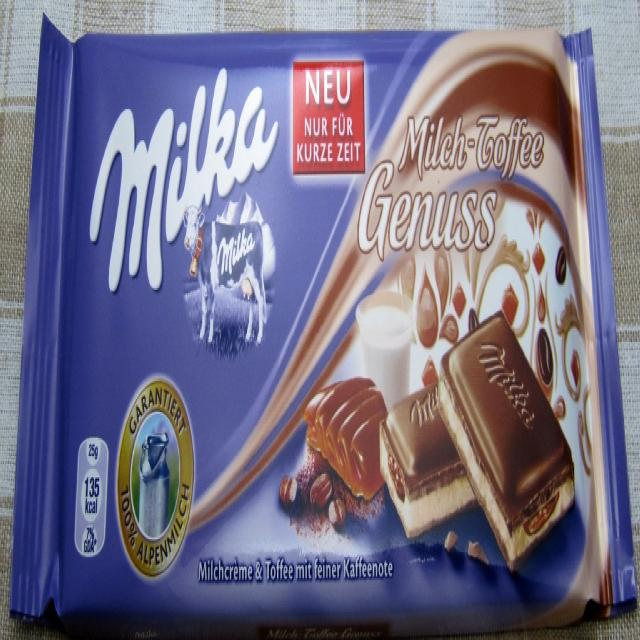milka: (83, 60, 282, 374)
